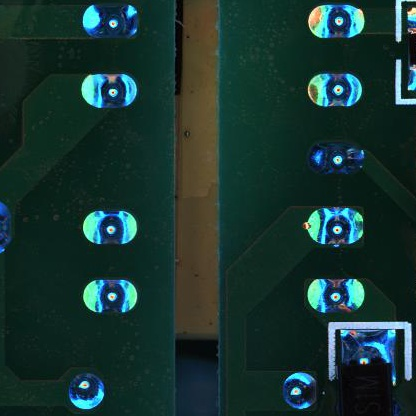spot: (302, 207, 364, 247), (307, 277, 365, 314), (82, 277, 139, 314), (82, 3, 139, 39), (305, 72, 362, 108), (308, 140, 365, 176), (81, 209, 139, 244), (79, 73, 138, 107), (307, 5, 365, 38), (63, 371, 105, 409), (282, 371, 318, 410)
